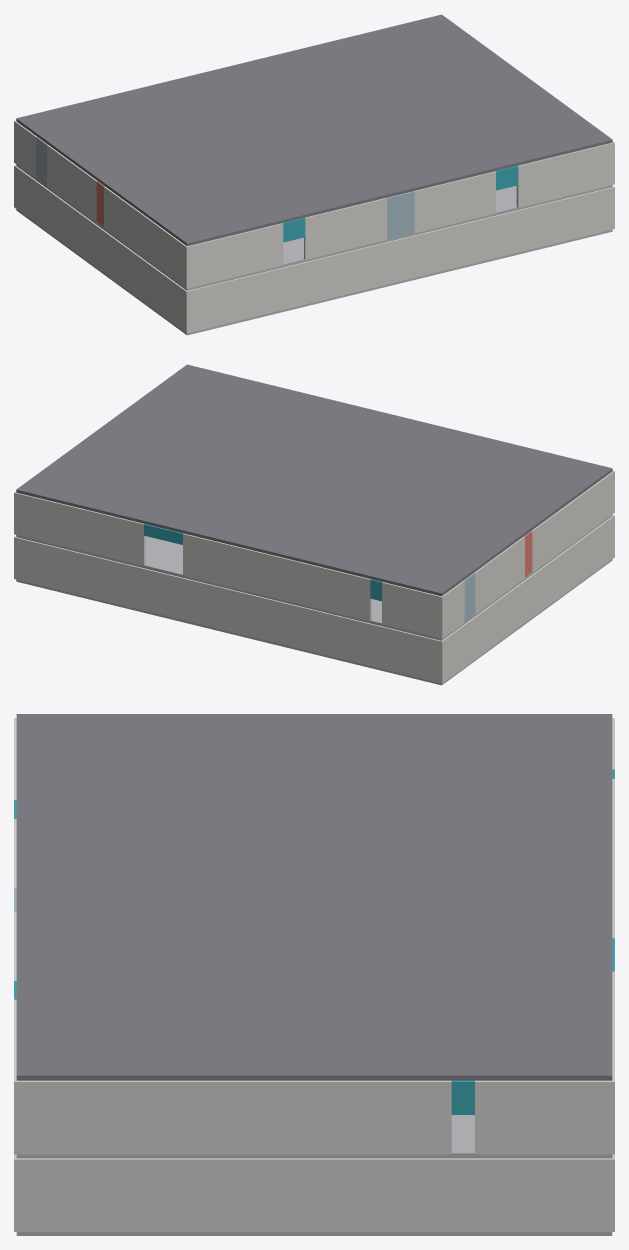
The model's file is casino_a02.glb.
3 views of the same model, one above another, from view 1: azimuth 30°, elevation 25°; view 2: azimuth 150°, elevation 25°; view 3: azimuth 270°, elevation 25° (orthographic). The views are drawn at different scales.
Visible parts, largest first — view 1: slab_1_t0_0, slab_1_t0_1, slab_1_t0_8, slab_1_t0_5, slab_1_t0_7, slab_1_t0_2, slab_1_t0_4, slab_1_t0_6, slab_1_t0_3, slab_1_t0_9, slab_1_t1_0, slab_1_t4_0 (+132 smaller); view 2: slab_1_t6_0, slab_1_t6_1, slab_1_t6_8, slab_1_t6_5, slab_1_t6_7, slab_1_t6_2, slab_1_t6_4, slab_1_t6_6, slab_1_t6_3, slab_1_t6_9, slab_1_t5_0, slab_1_t1_0 (+130 smaller); view 3: slab_1_t0_9, slab_1_t6_9, slab_1_t1_9, slab_1_t2_9, slab_1_t3_9, slab_1_t4_9, slab_1_t5_9, slab_1_t0_2, slab_1_t0_8, slab_1_t6_2, slab_1_t6_8, slab_1_t0_0 (+92 smaller).
Part boxes in pixels (<box>): slab_1_t0_0: <box>162,215,229,246</box>; slab_1_t0_1: <box>205,205,272,235</box>; slab_1_t0_8: <box>503,132,570,162</box>; slab_1_t0_5: <box>376,163,442,194</box>; slab_1_t0_7: <box>461,142,527,173</box>; slab_1_t0_2: <box>248,194,314,225</box>; slab_1_t0_4: <box>333,173,399,204</box>; slab_1_t0_6: <box>418,153,484,183</box>; slab_1_t0_3: <box>290,184,357,214</box>; slab_1_t0_9: <box>546,122,612,152</box>; slab_1_t1_0: <box>138,197,204,227</box>; slab_1_t4_0: <box>65,144,131,174</box>; slab_1_t6_0: <box>399,565,466,596</box>; slab_1_t6_1: <box>356,555,423,585</box>; slab_1_t6_8: <box>58,482,125,512</box>; slab_1_t6_5: <box>186,513,252,544</box>; slab_1_t6_7: <box>101,492,167,523</box>; slab_1_t6_2: <box>314,544,380,575</box>; slab_1_t6_4: <box>229,523,295,554</box>; slab_1_t6_6: <box>144,503,210,533</box>; slab_1_t6_3: <box>271,534,338,564</box>; slab_1_t6_9: <box>16,472,82,502</box>; slab_1_t5_0: <box>424,547,490,577</box>; slab_1_t1_0: <box>521,476,588,506</box>; slab_1_t0_9: <box>16,1039,101,1080</box>; slab_1_t6_9: <box>527,1039,612,1080</box>; slab_1_t1_9: <box>102,1039,186,1080</box>; slab_1_t2_9: <box>187,1039,271,1080</box>; slab_1_t3_9: <box>272,1039,356,1080</box>; slab_1_t4_9: <box>357,1039,441,1080</box>; slab_1_t5_9: <box>442,1039,526,1080</box>; slab_1_t0_2: <box>16,786,101,822</box>; slab_1_t0_8: <box>16,1003,101,1039</box>; slab_1_t6_2: <box>527,786,612,822</box>; slab_1_t6_8: <box>527,1003,612,1039</box>; slab_1_t0_0: <box>16,714,101,750</box>.
Size of what is drawn, in the model's own units: 46.3 by 9.5 by 32.3.
